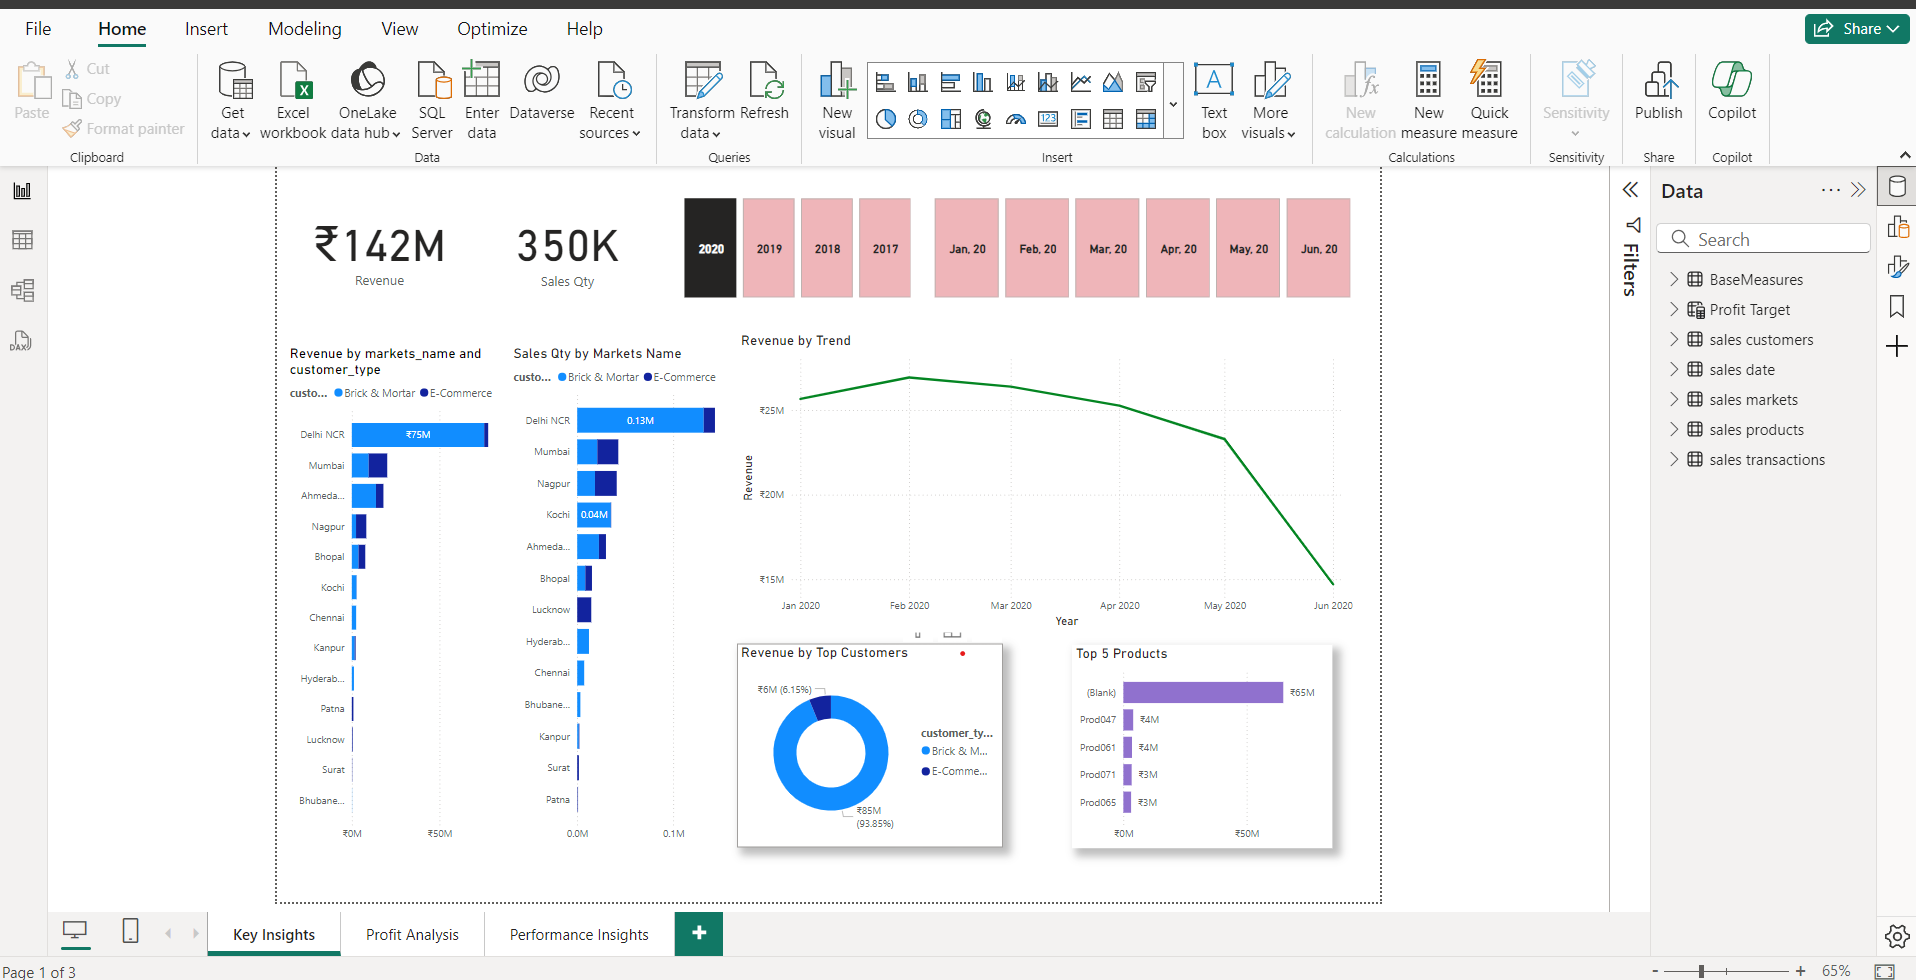

The page's visual inventory and layout, read from the dashboard file:
{"tool":"powerbi","page":{"name":"Key Insights","canvas":[1350,900],"ordinal":0},"visuals":[{"type":"card","fields":{"Values":["BaseMeasures.Revenue"]},"box":[10.7,0,229.6,202.9],"z":0},{"type":"card","fields":{"Values":["BaseMeasures.Sales Qty"]},"box":[240,0,230.8,203.1],"z":1000},{"type":"barChart","fields":{"Y":["BaseMeasures.Revenue"],"Category":["sales markets.markets_name"],"Series":["sales customers.customer_type"]},"box":[10.7,218.6,273.6,616],"z":2000},{"type":"barChart","title":"Sales Qty by Markets Name","fields":{"Y":["BaseMeasures.Sales Qty"],"Category":["sales markets.markets_name"],"Series":["sales customers.customer_type"]},"box":[284.3,218.6,278.2,616],"z":3000},{"type":"advancedSlicerVisual","title":"Year","fields":{"Values":["sales date.year"]},"box":[493.3,39.7,287.1,126.9],"z":4000},{"type":"advancedSlicerVisual","title":"Year","fields":{"Values":["sales date.cy_date"]},"box":[780,40,558.5,126.2],"z":5000},{"type":"donutChart","title":"Revenue by Top Customers","fields":{"Y":["BaseMeasures.Revenue"],"Category":["sales customers.customer_type"]},"box":[563,583.7,325.1,249],"z":6000},{"type":"barChart","title":"Top 5 Products","fields":{"Y":["BaseMeasures.Revenue"],"Category":["sales products.product_code"]},"box":[972.2,585.2,318.8,249],"z":7000},{"type":"lineChart","title":"Revenue by Trend","fields":{"Y":["BaseMeasures.Revenue"],"Category":["sales date.cy_date.Variation.Date Hierarchy.Year","sales date.cy_date.Variation.Date Hierarchy.Quarter","sales date.cy_date.Variation.Date Hierarchy.Month","sales date.cy_date.Variation.Date Hierarchy.Day"]},"box":[562.5,203.3,758.2,366.8],"z":8000}]}

Visuals, with their boxes on the page's 1350x900 design canvas (x1, y1, x2, y2). These are canvas units, not pixel positions in the 1916x980 screenshot, which may show the page scaled, cropped or inside an application window:
card - BaseMeasures.Revenue: pyautogui.locateOnScreen(11, 0, 240, 203)
card - BaseMeasures.Sales Qty: pyautogui.locateOnScreen(240, 0, 471, 203)
barChart - BaseMeasures.Revenue x sales markets.markets_name: pyautogui.locateOnScreen(11, 219, 284, 835)
"Sales Qty by Markets Name" barChart: pyautogui.locateOnScreen(284, 219, 562, 835)
"Year" advancedSlicerVisual: pyautogui.locateOnScreen(493, 40, 780, 167)
"Year" advancedSlicerVisual: pyautogui.locateOnScreen(780, 40, 1338, 166)
"Revenue by Top Customers" donutChart: pyautogui.locateOnScreen(563, 584, 888, 833)
"Top 5 Products" barChart: pyautogui.locateOnScreen(972, 585, 1291, 834)
"Revenue by Trend" lineChart: pyautogui.locateOnScreen(562, 203, 1321, 570)
